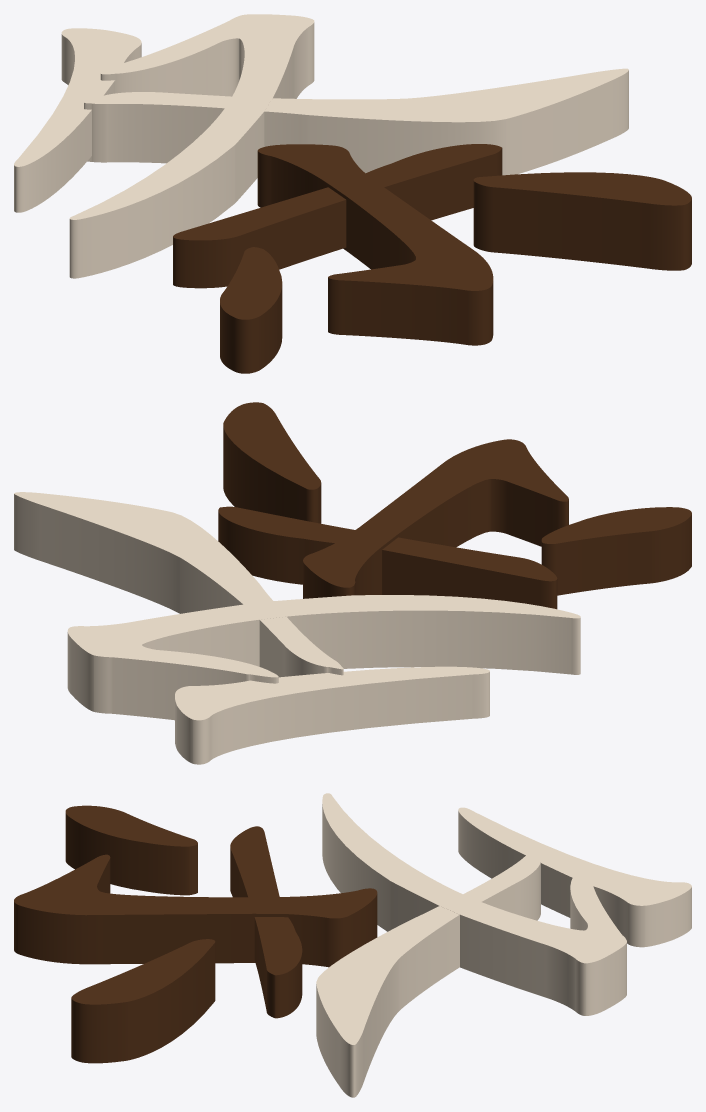
Rendered from hanzi170.fbx.
The picture shows the model from 3 angles, top to bottom: view 1: azimuth 30°, elevation 25°; view 2: azimuth 150°, elevation 25°; view 3: azimuth 270°, elevation 25°; orthographic projection. The views are drawn at different scales.
Parts seen in each view (by area): view 1: Curve.002, Curve.001, Curve.004, Curve.006, Curve.003, Curve, Curve.005; view 2: Curve.001, Curve.002, Curve, Curve.004, Curve.003, Curve.005, Curve.006; view 3: Curve.004, Curve.001, Curve.002, Curve.006, Curve, Curve.005, Curve.003.
Part boxes in pixels (box(x1,y1,x2,y2)): Curve.002: box(84, 68, 628, 175); Curve.001: box(69, 14, 314, 278); Curve.004: box(257, 144, 493, 345); Curve.006: box(473, 172, 691, 270); Curve.003: box(173, 144, 502, 288); Curve: box(14, 28, 141, 212); Curve.005: box(220, 247, 282, 373); Curve.001: box(67, 595, 580, 720); Curve.002: box(14, 492, 343, 677); Curve: box(175, 666, 489, 764); Curve.004: box(303, 439, 568, 598); Curve.003: box(218, 506, 557, 609); Curve.005: box(541, 507, 691, 595); Curve.006: box(223, 402, 321, 523); Curve.004: box(14, 854, 377, 967); Curve.001: box(322, 793, 626, 1015); Curve.002: box(316, 850, 540, 1097); Curve.006: box(71, 939, 215, 1063); Curve: box(458, 807, 691, 947); Curve.005: box(65, 805, 197, 895); Curve.003: box(230, 826, 302, 1018).
Bounding box in the file's own units: 22.02 × 25.06 × 2.4.
